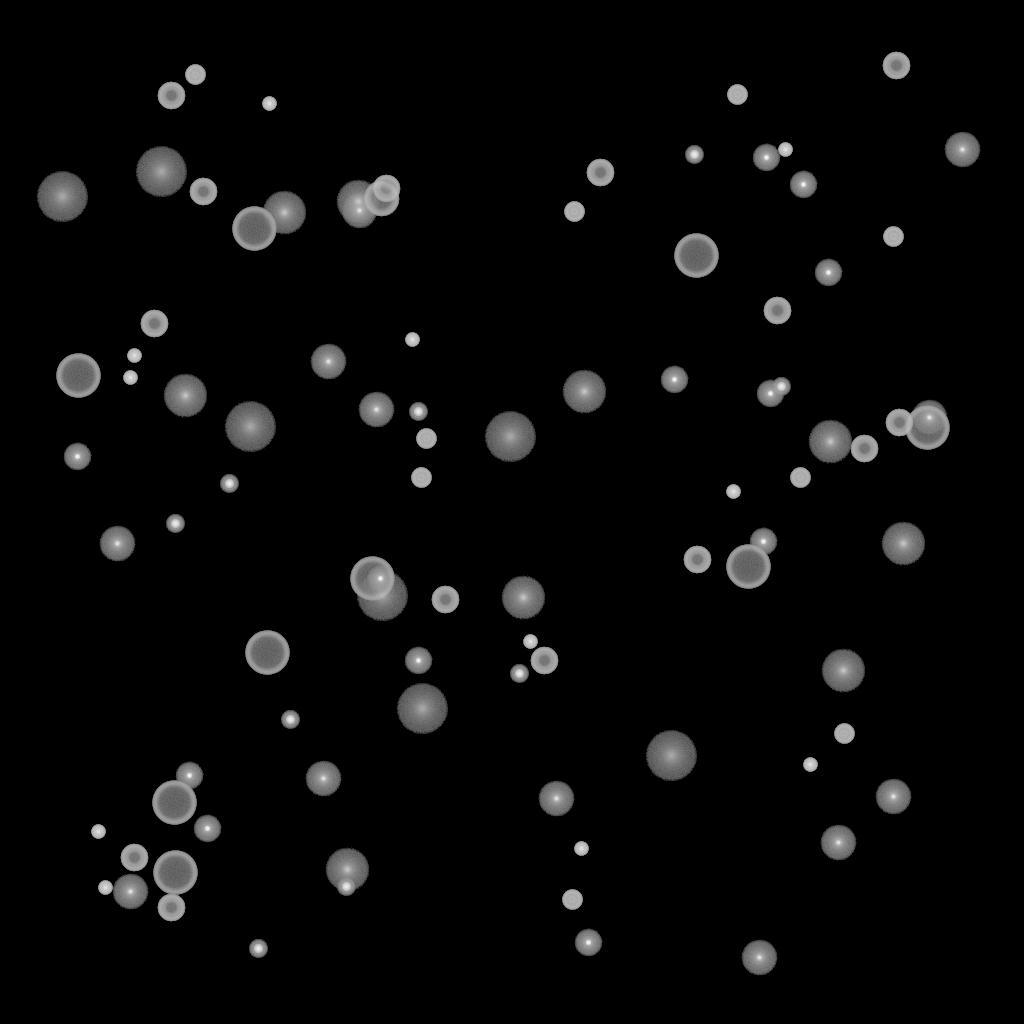depth:-10: (789, 171, 817, 199), (814, 259, 842, 287), (752, 144, 780, 172), (63, 443, 91, 471), (660, 366, 688, 394), (193, 815, 221, 843), (756, 380, 784, 408), (749, 528, 777, 556), (404, 647, 432, 675), (574, 929, 602, 957), (175, 762, 203, 790), (366, 565, 394, 593)
depth:-20: (337, 878, 355, 896), (685, 146, 703, 164), (510, 665, 528, 683), (772, 378, 790, 396), (281, 711, 299, 729), (409, 403, 427, 421), (166, 515, 184, 533), (249, 940, 267, 958), (220, 475, 238, 493)
depth:-30: (262, 97, 276, 111), (91, 825, 105, 839), (127, 349, 141, 363), (726, 485, 740, 499), (574, 842, 588, 856), (803, 758, 817, 772), (123, 371, 137, 385), (405, 333, 419, 347), (523, 635, 537, 649), (98, 881, 112, 895), (778, 143, 792, 157)
depth:-40: (883, 227, 903, 247), (185, 65, 205, 85), (416, 429, 436, 449), (790, 468, 810, 488), (564, 202, 584, 222), (562, 890, 582, 910), (727, 85, 747, 105), (834, 724, 854, 744), (411, 468, 431, 488)
depth:-50: (882, 52, 910, 80), (530, 647, 558, 675), (763, 297, 791, 325), (157, 82, 185, 110), (372, 175, 400, 203), (885, 409, 913, 437), (120, 844, 148, 872), (850, 435, 878, 463), (683, 546, 711, 574), (140, 310, 168, 338), (431, 586, 459, 614), (586, 159, 614, 187), (189, 178, 217, 206), (157, 894, 185, 922)
depth:-60: (363, 181, 399, 217)
depth:-70: (152, 781, 196, 825), (905, 406, 949, 450), (674, 234, 718, 278), (350, 557, 394, 601), (56, 354, 100, 398), (245, 631, 289, 675), (232, 207, 276, 251), (153, 851, 197, 895), (726, 545, 770, 589)
depth:0: (944, 132, 980, 168), (99, 526, 135, 562), (310, 344, 346, 380), (875, 779, 911, 815), (820, 825, 856, 861), (538, 781, 574, 817), (741, 940, 777, 976), (112, 874, 148, 910), (911, 400, 947, 436), (358, 392, 394, 428), (305, 761, 341, 797), (341, 193, 377, 229)
depth:10: (808, 420, 852, 464), (562, 370, 606, 414), (163, 374, 207, 418), (325, 848, 369, 892), (501, 576, 545, 620), (262, 191, 306, 235), (881, 522, 925, 566), (821, 649, 865, 693), (336, 180, 380, 224)
depth:20: (135, 147, 187, 197), (396, 684, 448, 734), (224, 402, 276, 452), (645, 731, 697, 781), (36, 172, 88, 222), (484, 412, 536, 462), (356, 571, 408, 621)
